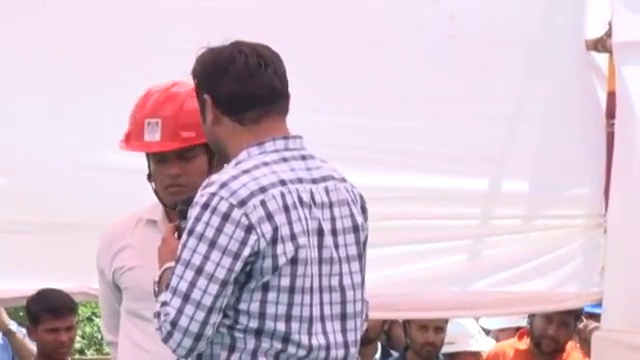helmet: (117, 84, 216, 156), (439, 317, 496, 356)
helmet_off: (187, 39, 296, 166), (24, 298, 81, 360), (526, 306, 587, 354), (395, 320, 455, 360)
helmet_on: (119, 83, 215, 222)
person: (151, 44, 370, 359), (95, 77, 204, 360)
